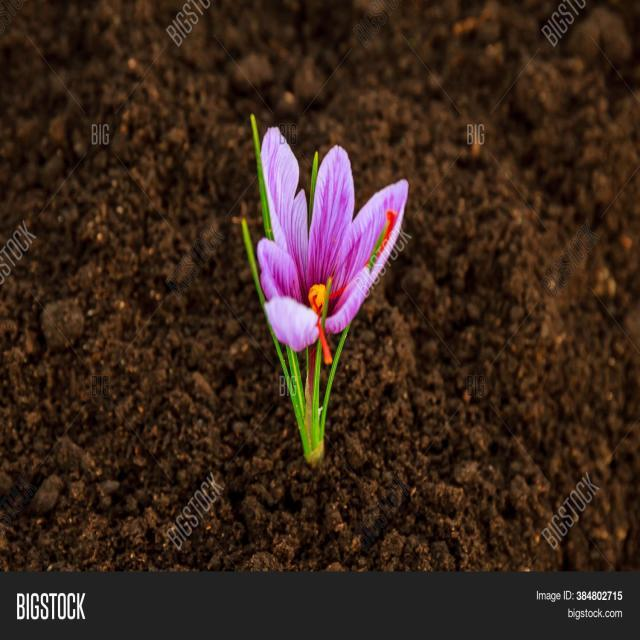Flower: (244, 126, 412, 366)
stigma: (359, 196, 401, 259), (308, 282, 340, 359)
